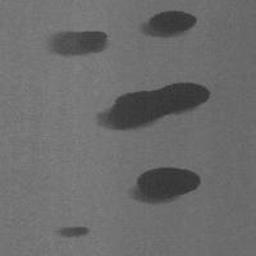Oil spot: (93, 81, 212, 133), (127, 165, 202, 206), (45, 29, 109, 59), (138, 9, 200, 38), (51, 225, 91, 239)
